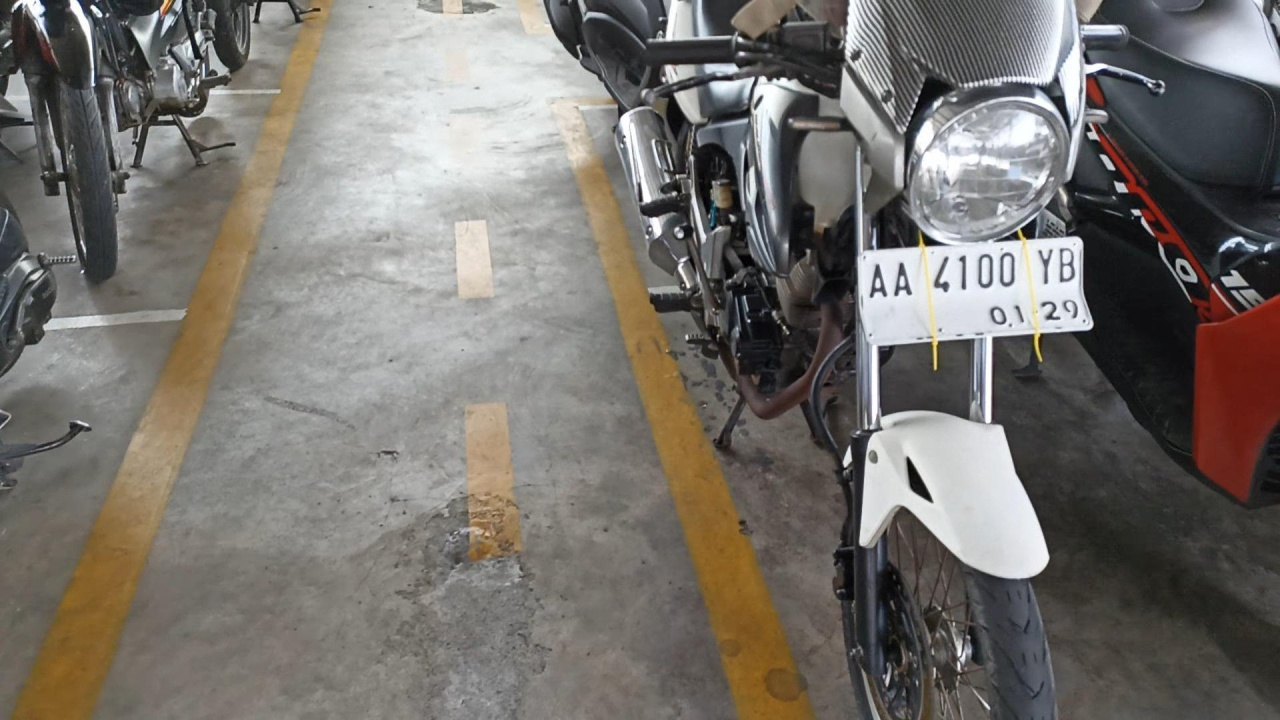plate: (861, 240, 1091, 343)
